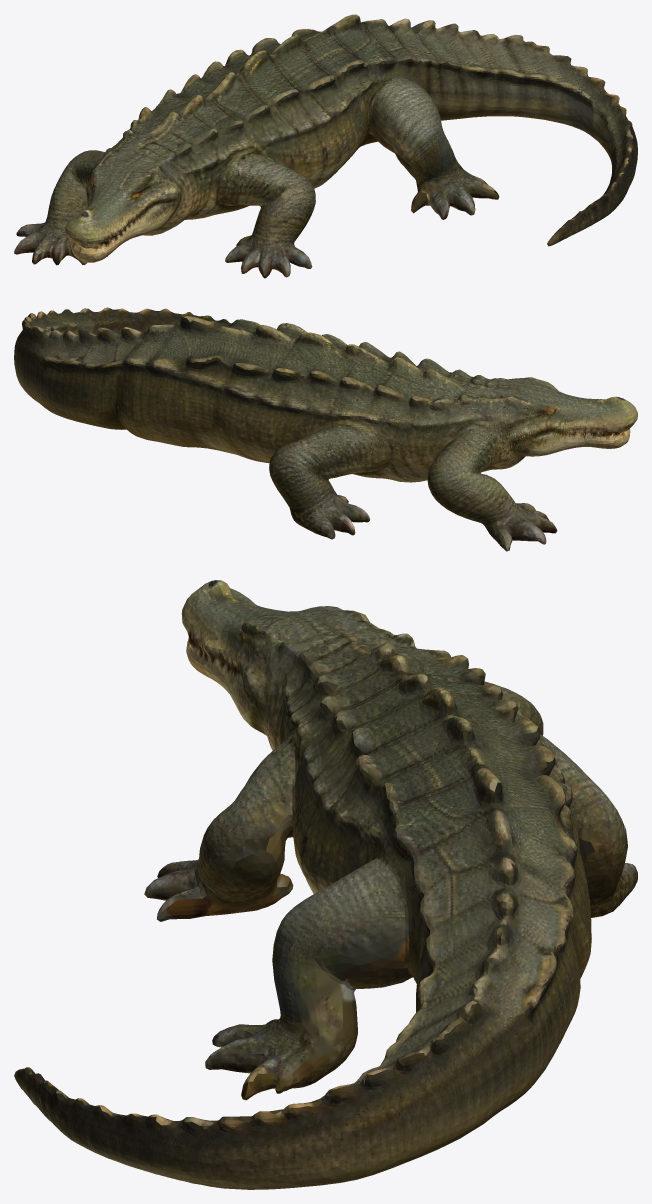
File: foe_crocodile.glb
3 views of the same model, one above another, from view 1: azimuth 30°, elevation 25°; view 2: azimuth 150°, elevation 25°; view 3: azimuth 270°, elevation 25° (orthographic). The views are drawn at different scales.
Visible parts, largest first — view 1: temp_mesh.ply; view 2: temp_mesh.ply; view 3: temp_mesh.ply.
Part boxes in pixels (x1,y1,x2,y2): temp_mesh.ply: (14, 14, 637, 278); temp_mesh.ply: (14, 307, 637, 551); temp_mesh.ply: (14, 580, 637, 1189).
Size of the model in its own units: 1.97 by 0.4953 by 1.07.
Materials: 1 (1 with a texture image).
